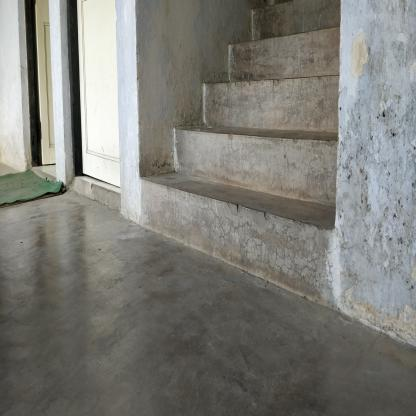stairs: (150, 29, 342, 250)
